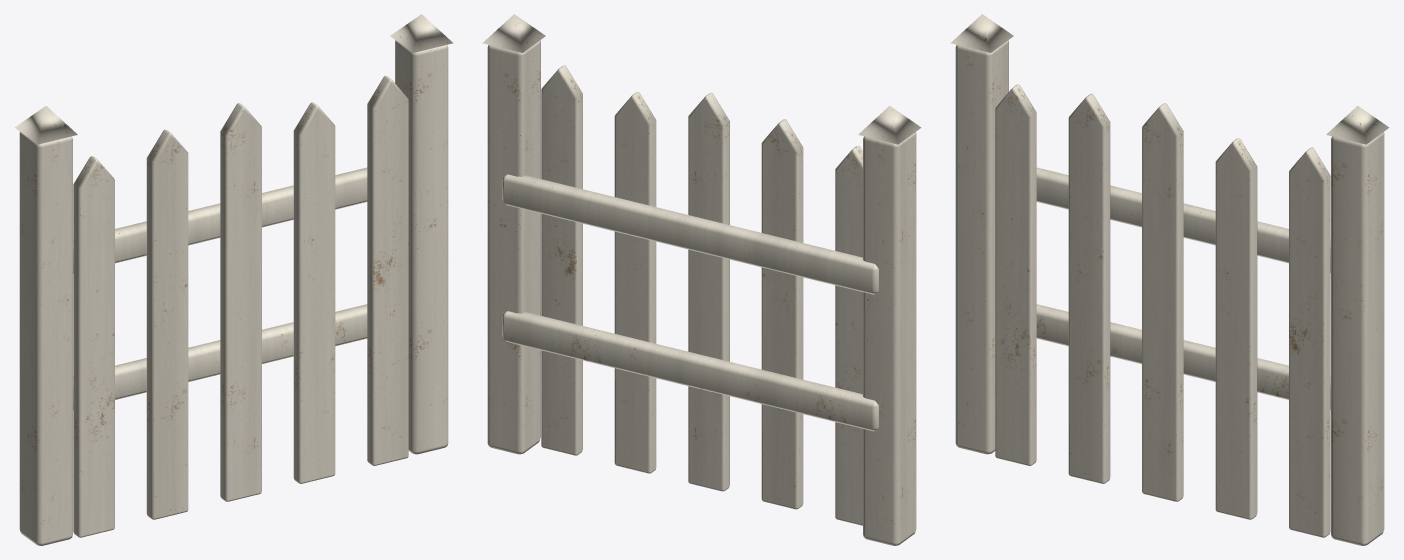
The model's file is fence_picket.glb.
3 views of the same model, side by side, from view 1: azimuth 30°, elevation 25°; view 2: azimuth 150°, elevation 25°; view 3: azimuth 330°, elevation 25° (orthographic).
Parts seen in each view (by area): view 1: model; view 2: model; view 3: model.
Boxes of the visible parts, x1=… form: model: x1=14, y1=14, x2=453, y2=545; model: x1=482, y1=14, x2=921, y2=545; model: x1=950, y1=14, x2=1389, y2=545.
Bounding box in the file's own units: 1.02 × 1.01 × 0.1095.
1 material, 1 textured.
